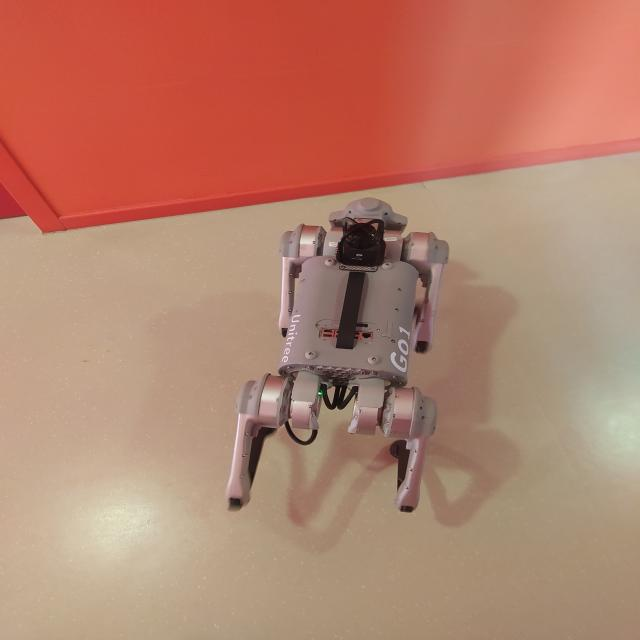unitree-go1-robot: (210, 187, 465, 521)
